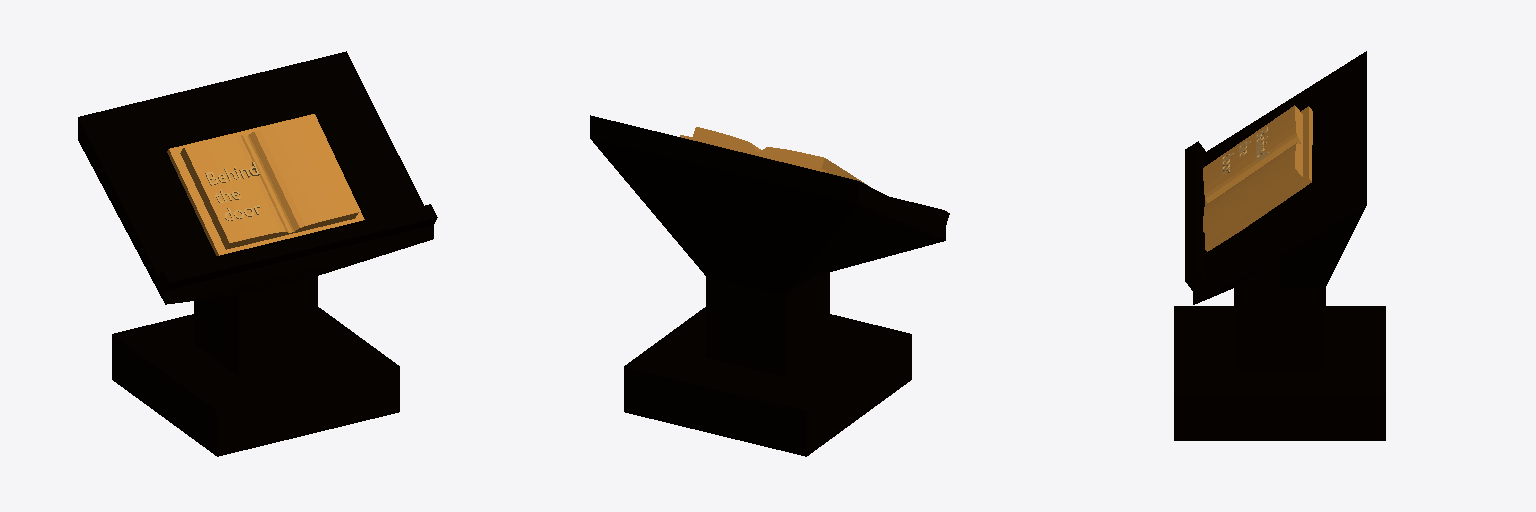
Rendered from lectern.obj.
3 views of the same model, side by side, from view 1: azimuth 30°, elevation 25°; view 2: azimuth 150°, elevation 25°; view 3: azimuth 270°, elevation 25° (orthographic).
Visible parts, largest first — view 1: Stand, Boook, Text; view 2: Stand, Boook; view 3: Stand, Boook.
Boxes of the visible parts, x1,y1,x2,y2 form: Stand: [78, 51, 437, 456]; Boook: [167, 114, 364, 255]; Text: [205, 162, 259, 220]; Stand: [590, 115, 949, 456]; Boook: [680, 127, 869, 186]; Stand: [1174, 51, 1385, 440]; Boook: [1203, 105, 1312, 251].
Bounding box in the file's own units: 1.58 × 1.57 × 1.08.